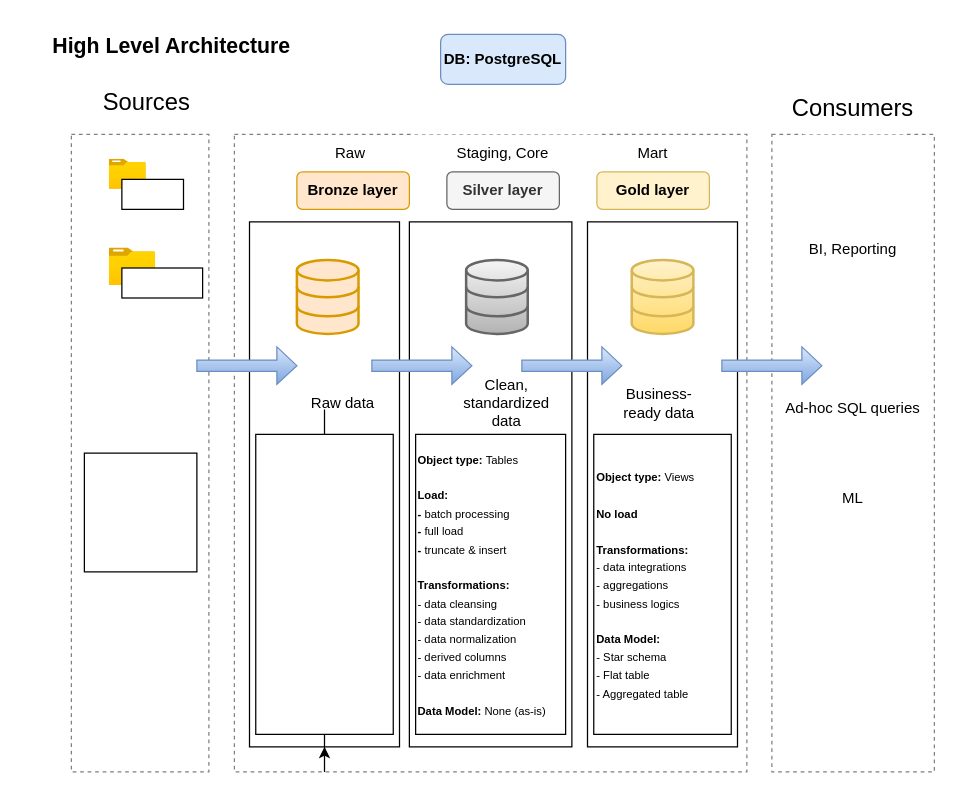
Some shapes in this 956 by 804 pixel diagram are drawn without their labels. Here are the shapes that lost their labels. From the top down, the centre of each, then its label:
point (505, 102): Data Warehouse
point (152, 193): patients
point (162, 282): admissions
point (140, 512): Object type: CSV files Interface: files in folder on laptop
